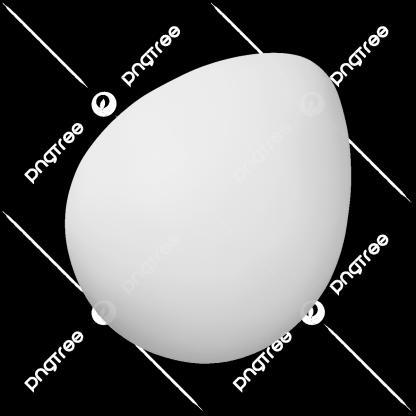egg: (62, 48, 360, 370)
